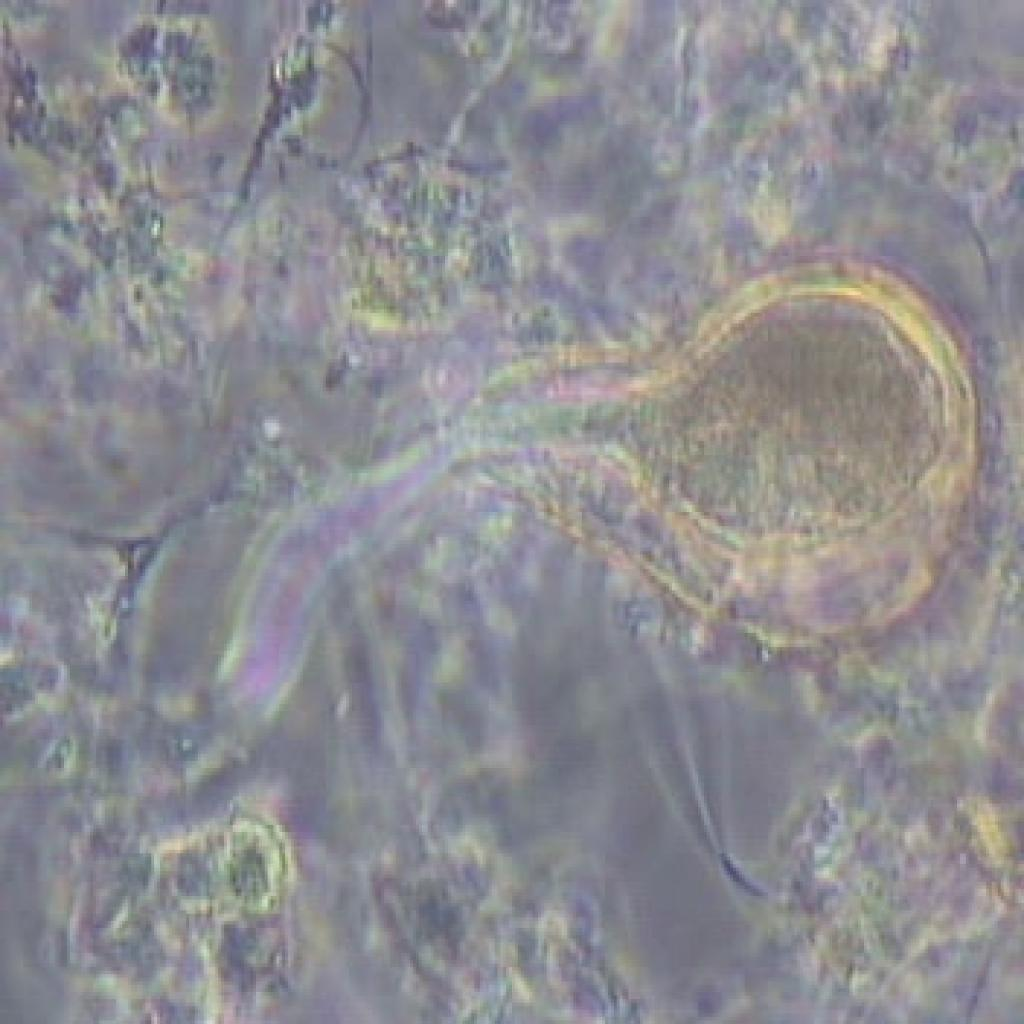Chaetopira: (429, 263, 988, 658)
